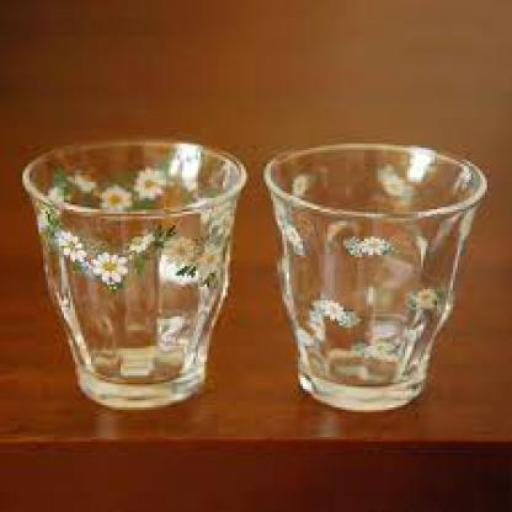glass: (18, 136, 244, 408), (262, 139, 483, 410)
